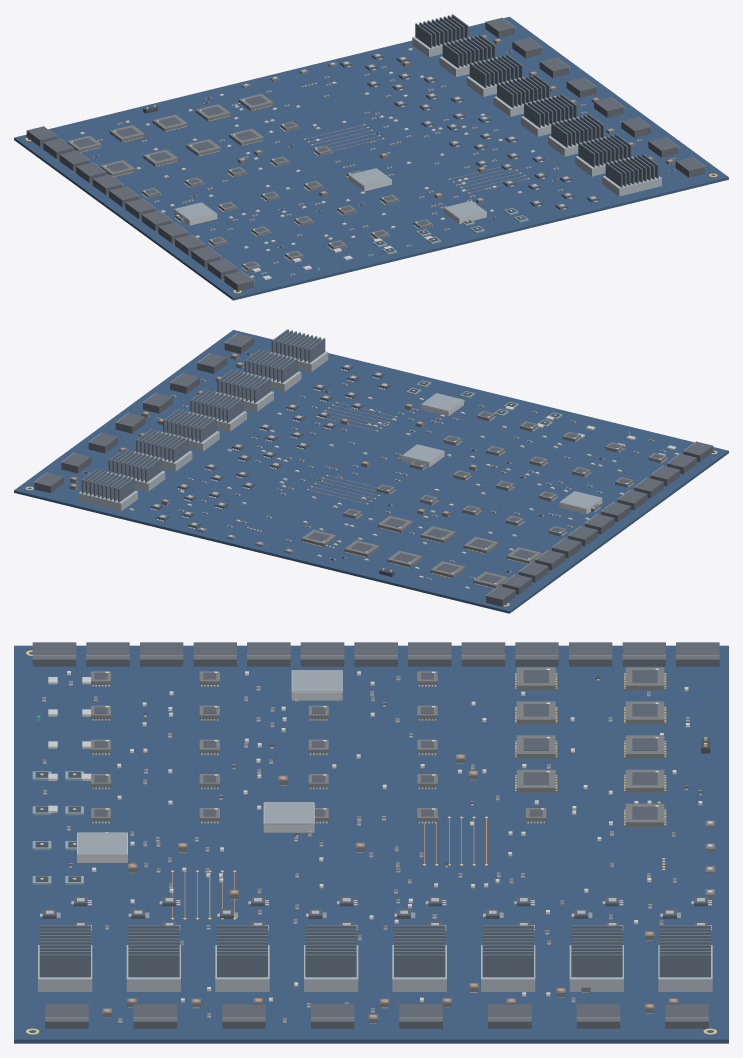
The model's file is 385_L124_AssembledReference.glb.
The picture shows the model from 3 angles, top to bottom: view 1: azimuth 30°, elevation 25°; view 2: azimuth 150°, elevation 25°; view 3: azimuth 270°, elevation 25°; orthographic projection. The views are drawn at different scales.
Parts seen in each view (by area): view 1: 385_L124_AssembledReference__PSMAT__pcb, 385_L124_AssembledReference__PSMAT__anodized, 385_L124_AssembledReference__PSMAT__connector, 385_L124_AssembledReference__PSMAT__graphite, 385_L124_AssembledReference__PSMAT__chip, 385_L124_AssembledReference__PSMAT__aluminum, 385_L124_AssembledReference__PSMAT__tin, 385_L124_AssembledReference__PSMAT__steel, 385_L124_AssembledReference__PSMAT__ceramic, 385_L124_AssembledReference__PSMAT__nickel, 385_L124_AssembledReference__PSMAT__ferrite, 385_L124_AssembledReference__PSMAT__resistor (+2 smaller); view 2: 385_L124_AssembledReference__PSMAT__pcb, 385_L124_AssembledReference__PSMAT__anodized, 385_L124_AssembledReference__PSMAT__connector, 385_L124_AssembledReference__PSMAT__graphite, 385_L124_AssembledReference__PSMAT__chip, 385_L124_AssembledReference__PSMAT__aluminum, 385_L124_AssembledReference__PSMAT__tin, 385_L124_AssembledReference__PSMAT__steel, 385_L124_AssembledReference__PSMAT__ceramic, 385_L124_AssembledReference__PSMAT__nickel, 385_L124_AssembledReference__PSMAT__resistor, 385_L124_AssembledReference__PSMAT__ferrite (+2 smaller); view 3: 385_L124_AssembledReference__PSMAT__pcb, 385_L124_AssembledReference__PSMAT__anodized, 385_L124_AssembledReference__PSMAT__connector, 385_L124_AssembledReference__PSMAT__graphite, 385_L124_AssembledReference__PSMAT__aluminum, 385_L124_AssembledReference__PSMAT__steel, 385_L124_AssembledReference__PSMAT__chip, 385_L124_AssembledReference__PSMAT__tin, 385_L124_AssembledReference__PSMAT__ceramic, 385_L124_AssembledReference__PSMAT__ferrite, 385_L124_AssembledReference__PSMAT__nickel, 385_L124_AssembledReference__PSMAT__resistor (+3 smaller).
Part boxes in pixels (bbox=[...]): 385_L124_AssembledReference__PSMAT__pcb: bbox=[14, 16, 728, 300]; 385_L124_AssembledReference__PSMAT__anodized: bbox=[415, 14, 658, 187]; 385_L124_AssembledReference__PSMAT__connector: bbox=[26, 18, 705, 291]; 385_L124_AssembledReference__PSMAT__graphite: bbox=[66, 62, 432, 271]; 385_L124_AssembledReference__PSMAT__chip: bbox=[73, 53, 599, 267]; 385_L124_AssembledReference__PSMAT__aluminum: bbox=[343, 36, 661, 206]; 385_L124_AssembledReference__PSMAT__tin: bbox=[79, 49, 675, 277]; 385_L124_AssembledReference__PSMAT__steel: bbox=[43, 17, 705, 282]; 385_L124_AssembledReference__PSMAT__ceramic: bbox=[80, 48, 556, 279]; 385_L124_AssembledReference__PSMAT__nickel: bbox=[174, 175, 486, 225]; 385_L124_AssembledReference__PSMAT__ferrite: bbox=[237, 35, 674, 203]; 385_L124_AssembledReference__PSMAT__resistor: bbox=[98, 66, 674, 275]; 385_L124_AssembledReference__PSMAT__pcb: bbox=[14, 330, 728, 613]; 385_L124_AssembledReference__PSMAT__anodized: bbox=[81, 329, 325, 502]; 385_L124_AssembledReference__PSMAT__connector: bbox=[34, 333, 713, 606]; 385_L124_AssembledReference__PSMAT__graphite: bbox=[197, 411, 666, 588]; 385_L124_AssembledReference__PSMAT__chip: bbox=[150, 364, 663, 583]; 385_L124_AssembledReference__PSMAT__aluminum: bbox=[78, 351, 387, 525]; 385_L124_AssembledReference__PSMAT__tin: bbox=[83, 352, 678, 588]; 385_L124_AssembledReference__PSMAT__steel: bbox=[33, 333, 696, 597]; 385_L124_AssembledReference__PSMAT__ceramic: bbox=[129, 397, 678, 588]; 385_L124_AssembledReference__PSMAT__nickel: bbox=[401, 400, 602, 514]; 385_L124_AssembledReference__PSMAT__resistor: bbox=[157, 379, 664, 579]; 385_L124_AssembledReference__PSMAT__ferrite: bbox=[69, 353, 477, 517]; 385_L124_AssembledReference__PSMAT__pcb: bbox=[14, 645, 728, 1043]; 385_L124_AssembledReference__PSMAT__anodized: bbox=[39, 925, 710, 977]; 385_L124_AssembledReference__PSMAT__connector: bbox=[32, 642, 719, 1028]; 385_L124_AssembledReference__PSMAT__graphite: bbox=[91, 667, 714, 897]; 385_L124_AssembledReference__PSMAT__aluminum: bbox=[38, 898, 712, 991]; 385_L124_AssembledReference__PSMAT__steel: bbox=[32, 655, 719, 1021]; 385_L124_AssembledReference__PSMAT__chip: bbox=[42, 670, 707, 925]; 385_L124_AssembledReference__PSMAT__tin: bbox=[37, 671, 711, 1022]; 385_L124_AssembledReference__PSMAT__ceramic: bbox=[48, 671, 702, 1001]; 385_L124_AssembledReference__PSMAT__ferrite: bbox=[102, 754, 678, 1023]; 385_L124_AssembledReference__PSMAT__nickel: bbox=[77, 670, 342, 862]; 385_L124_AssembledReference__PSMAT__resistor: bbox=[42, 675, 689, 1021].
Bounding box in the file's own units: 0.6 × 0.0277 × 0.46.
